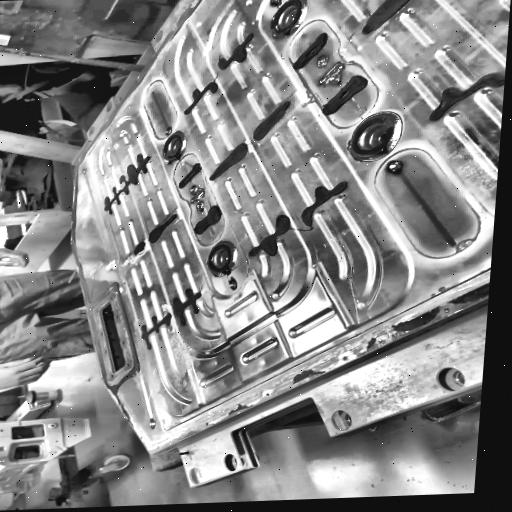b_casing: (40, 0, 512, 500)
